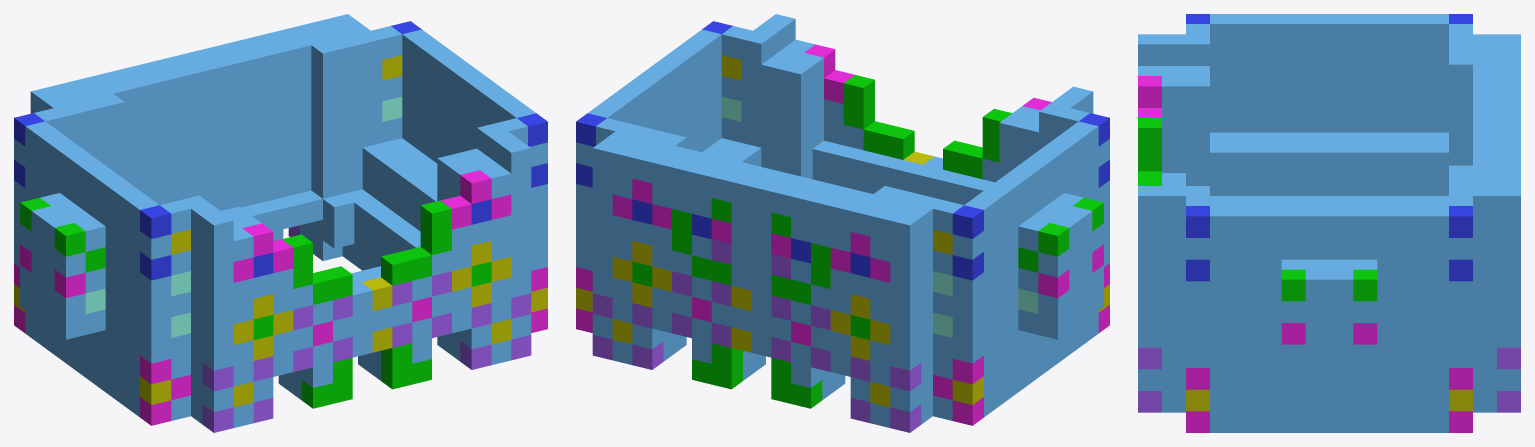
3 views of the same model, side by side, from view 1: azimuth 30°, elevation 25°; view 2: azimuth 150°, elevation 25°; view 3: azimuth 270°, elevation 25° (orthographic). The views are drawn at different scales.
Parts seen in each view (by area): view 1: 115; view 2: 115; view 3: 115.
Part boxes in pixels (x1,y1,x2,y2): 115: [14, 14, 547, 432]; 115: [576, 14, 1109, 432]; 115: [1138, 14, 1520, 432].
Size of the model in its own units: 2.4 by 1 by 1.6.
1 material, 1 textured.
